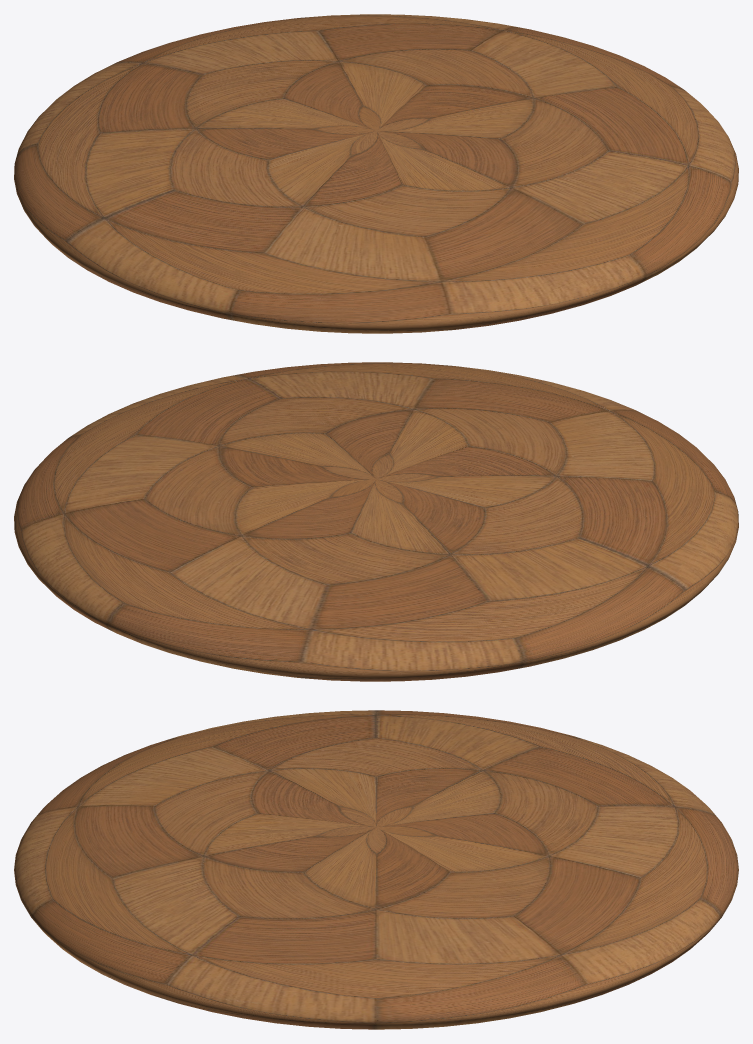
Rendered from Disc.glb.
3 views of the same model, one above another, from view 1: azimuth 30°, elevation 25°; view 2: azimuth 150°, elevation 25°; view 3: azimuth 270°, elevation 25° (orthographic).
Visible parts, largest first — view 1: Sphere; view 2: Sphere; view 3: Sphere.
Boxes of the visible parts, left/top/right/bottom form: Sphere: left=14, top=14, right=738, bottom=333; Sphere: left=14, top=362, right=738, bottom=681; Sphere: left=14, top=710, right=738, bottom=1029.
Size of the model in its own units: 2 by 0.2604 by 2.
1 material, 1 textured.
